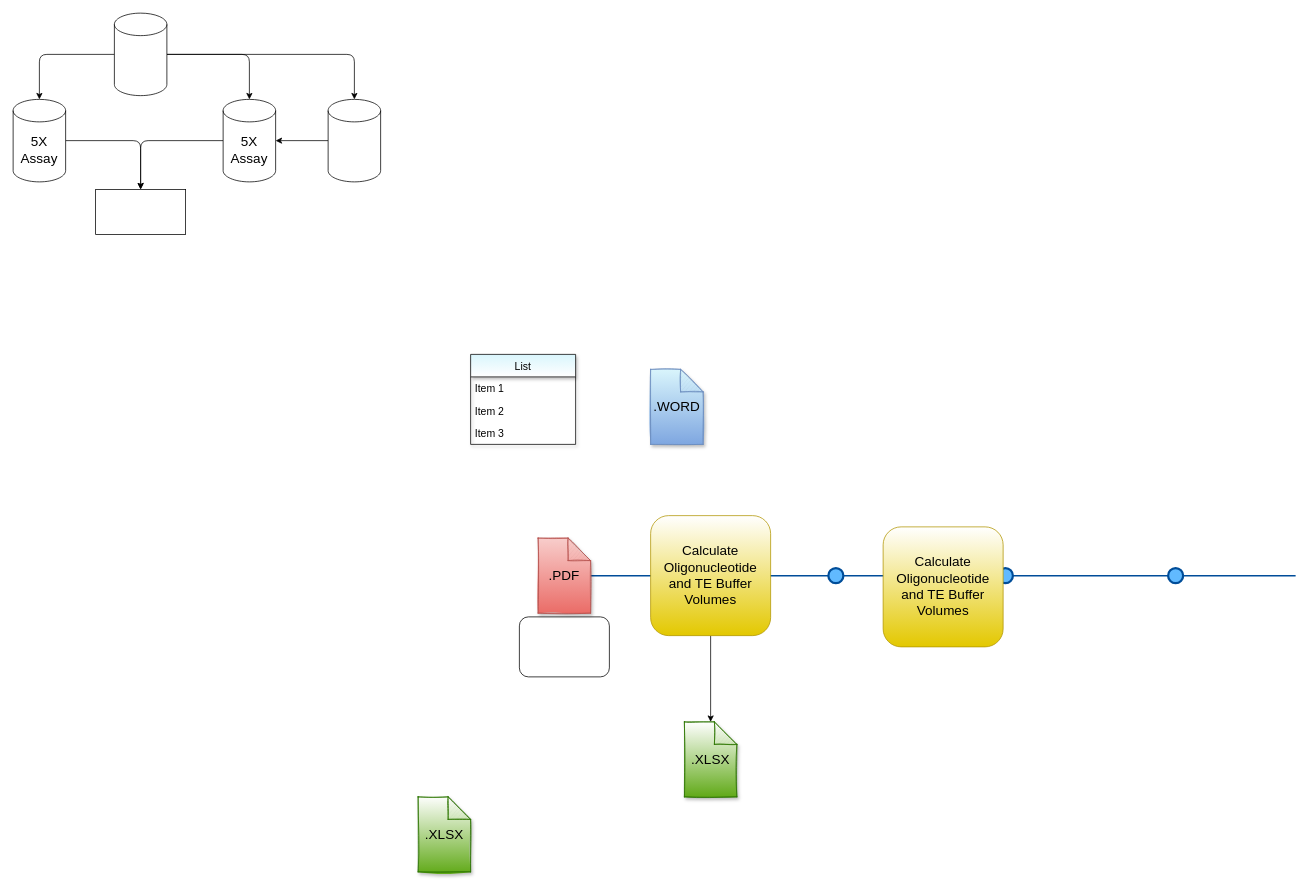
The diagram is 1310 pixels wide and 890 high, and some of its shapes have lost their labels. Here are the shapes that lost their labels. From the top down, the centre of each, then its label:
At point (140, 54): "Oligos".
At point (354, 140): "40X Assay".
At point (140, 211): "Plates".
At point (564, 646): "QTRACE® Assay Tube Manufacturing Protocol BMR002".
